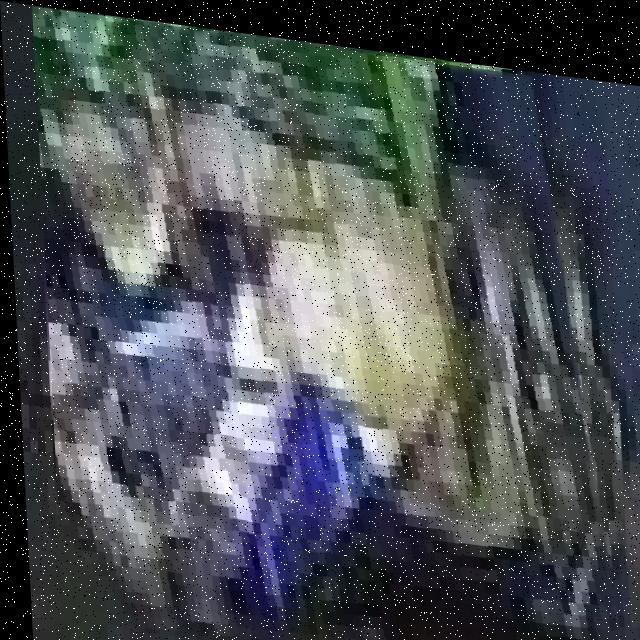can: (32, 3, 624, 640)
